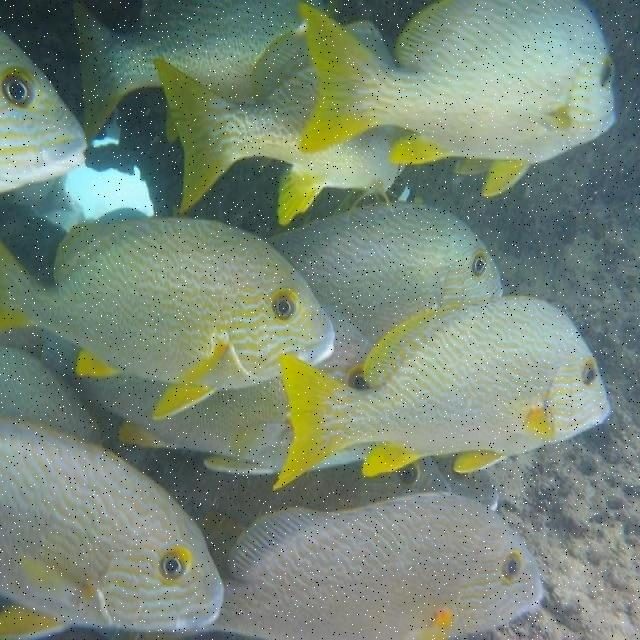fish: (1, 217, 336, 418), (273, 296, 611, 489), (298, 0, 616, 198), (41, 304, 372, 476), (154, 28, 414, 225), (202, 491, 543, 639), (1, 416, 223, 638), (73, 0, 343, 141), (267, 199, 505, 347), (0, 30, 88, 194)
